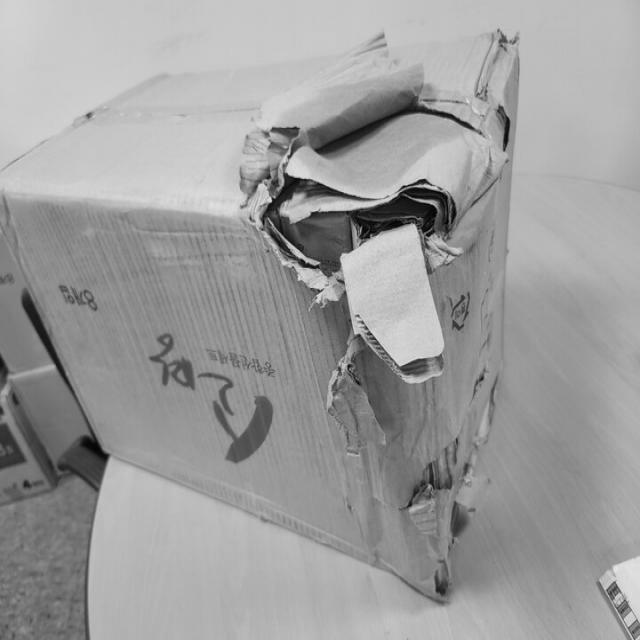hole: (261, 179, 473, 311)
